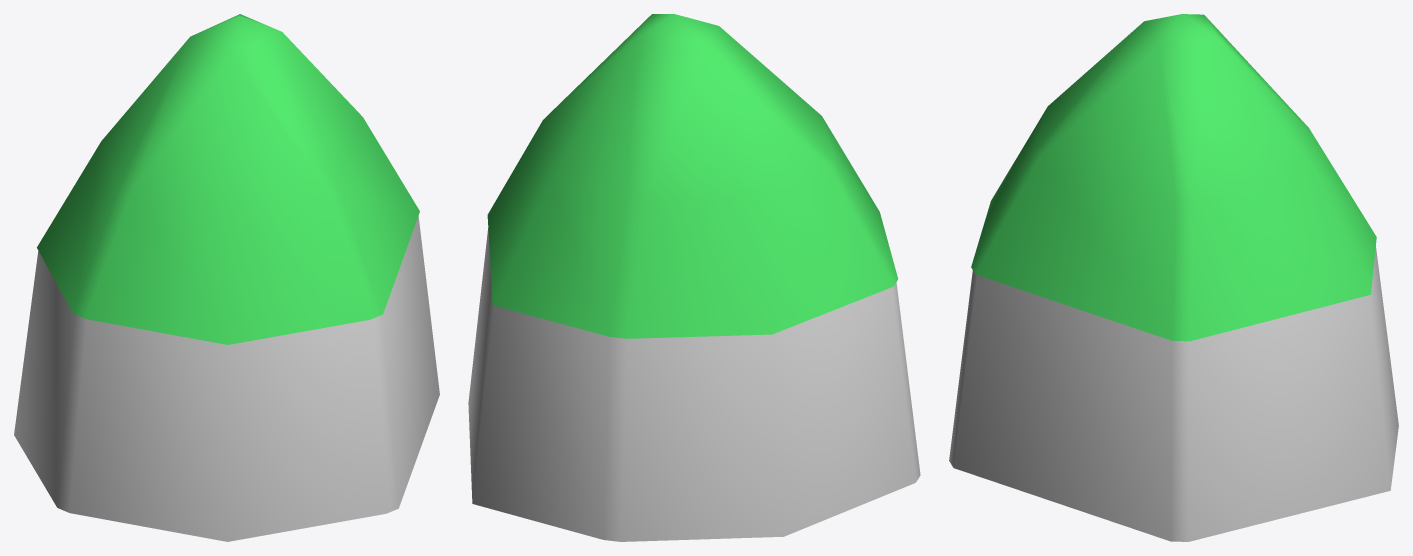
Rendered from RockLittle_A_Moss.fbx.
3 views of the same model, side by side, from view 1: azimuth 30°, elevation 25°; view 2: azimuth 150°, elevation 25°; view 3: azimuth 270°, elevation 25° (orthographic). The views are drawn at different scales.
Parts seen in each view (by area): view 1: RockLittle_A_Moss_LOD0; view 2: RockLittle_A_Moss_LOD0; view 3: RockLittle_A_Moss_LOD0.
Boxes of the visible parts, <box> form: RockLittle_A_Moss_LOD0: <box>14,14,439,541</box>; RockLittle_A_Moss_LOD0: <box>468,14,920,541</box>; RockLittle_A_Moss_LOD0: <box>949,14,1398,541</box>.
Size of what is drawn, in the model's own units: 1 by 1 by 0.9481.
